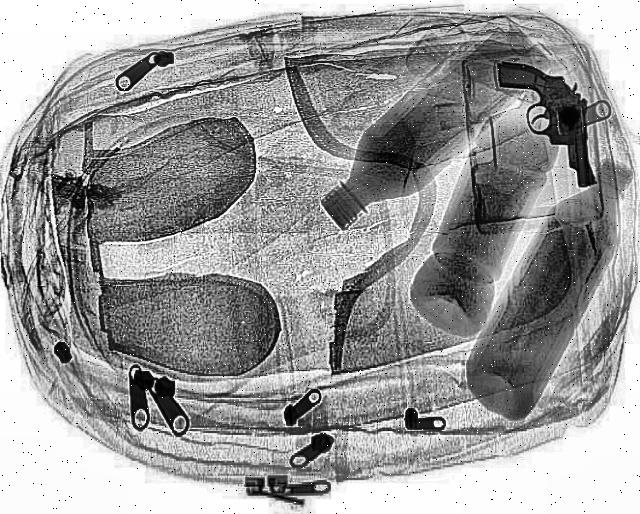Gun: (498, 58, 596, 198)
